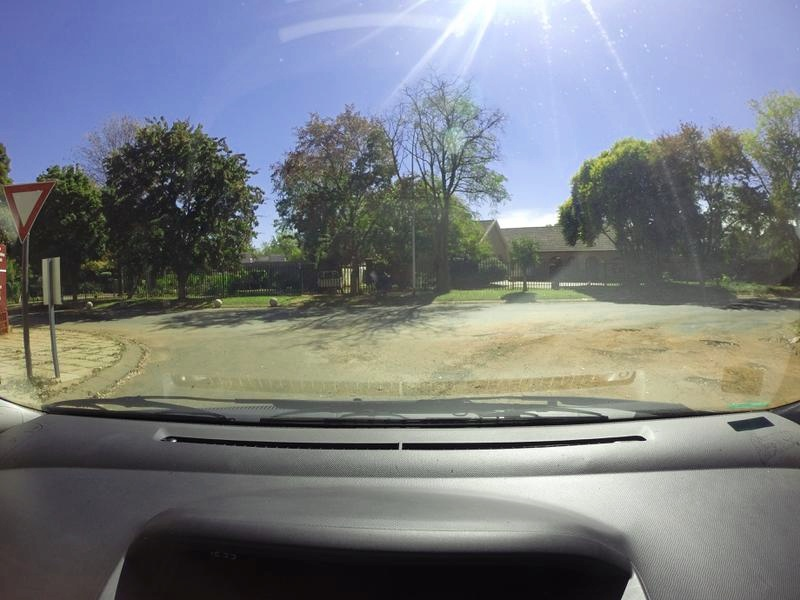pothole: (699, 333, 744, 348), (611, 349, 666, 361), (690, 372, 720, 390), (617, 322, 640, 334)
